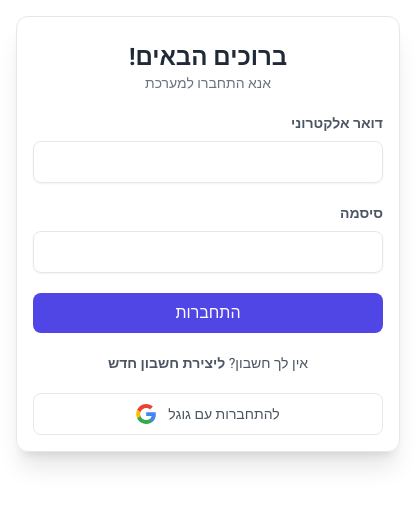
Test: LoginForm › displays error message when login fails
Type "test@example.com" into the field labelled "דואר אלקטרוני" at {"x": 208, "y": 162}, box [33, 141, 383, 183]
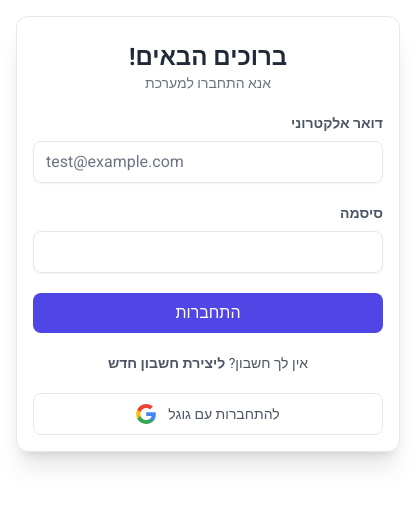
Type "WrongPassword" into the password field labelled "סיסמה" at {"x": 208, "y": 252}, box [33, 231, 383, 273]
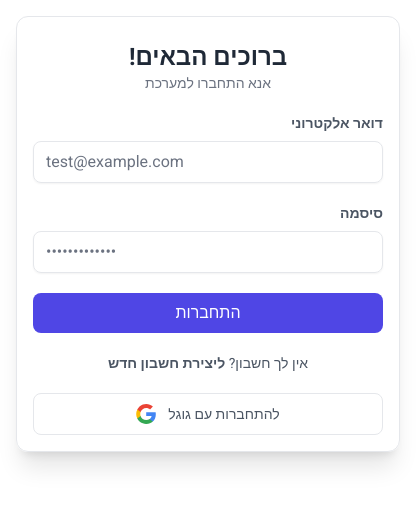
Click the button "התחברות" at {"x": 208, "y": 313}, box [33, 293, 383, 333]
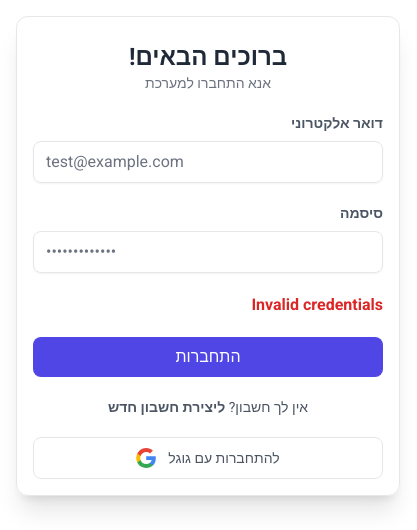
Expected: the text "Invalid credentials" is shown, [251, 295, 383, 314]
